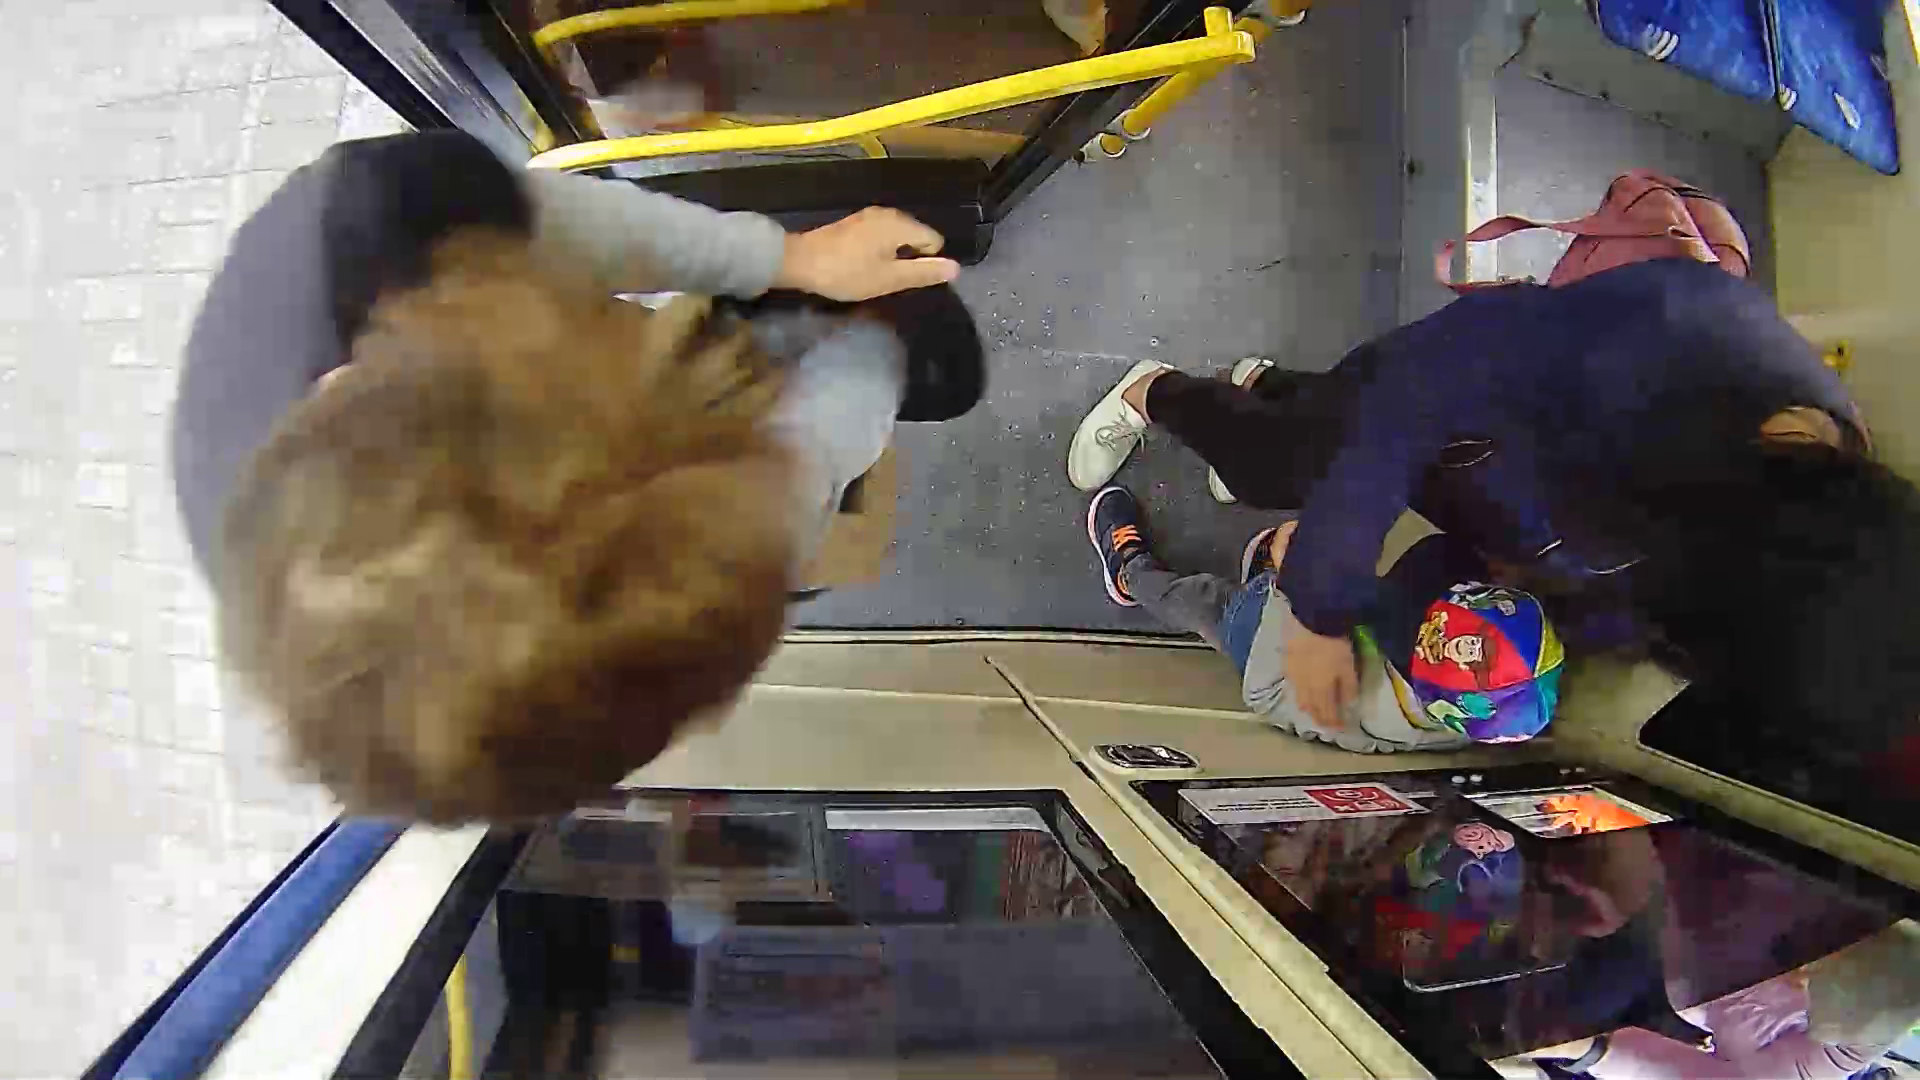person: (143, 58, 1018, 799), (1088, 227, 1920, 828)
